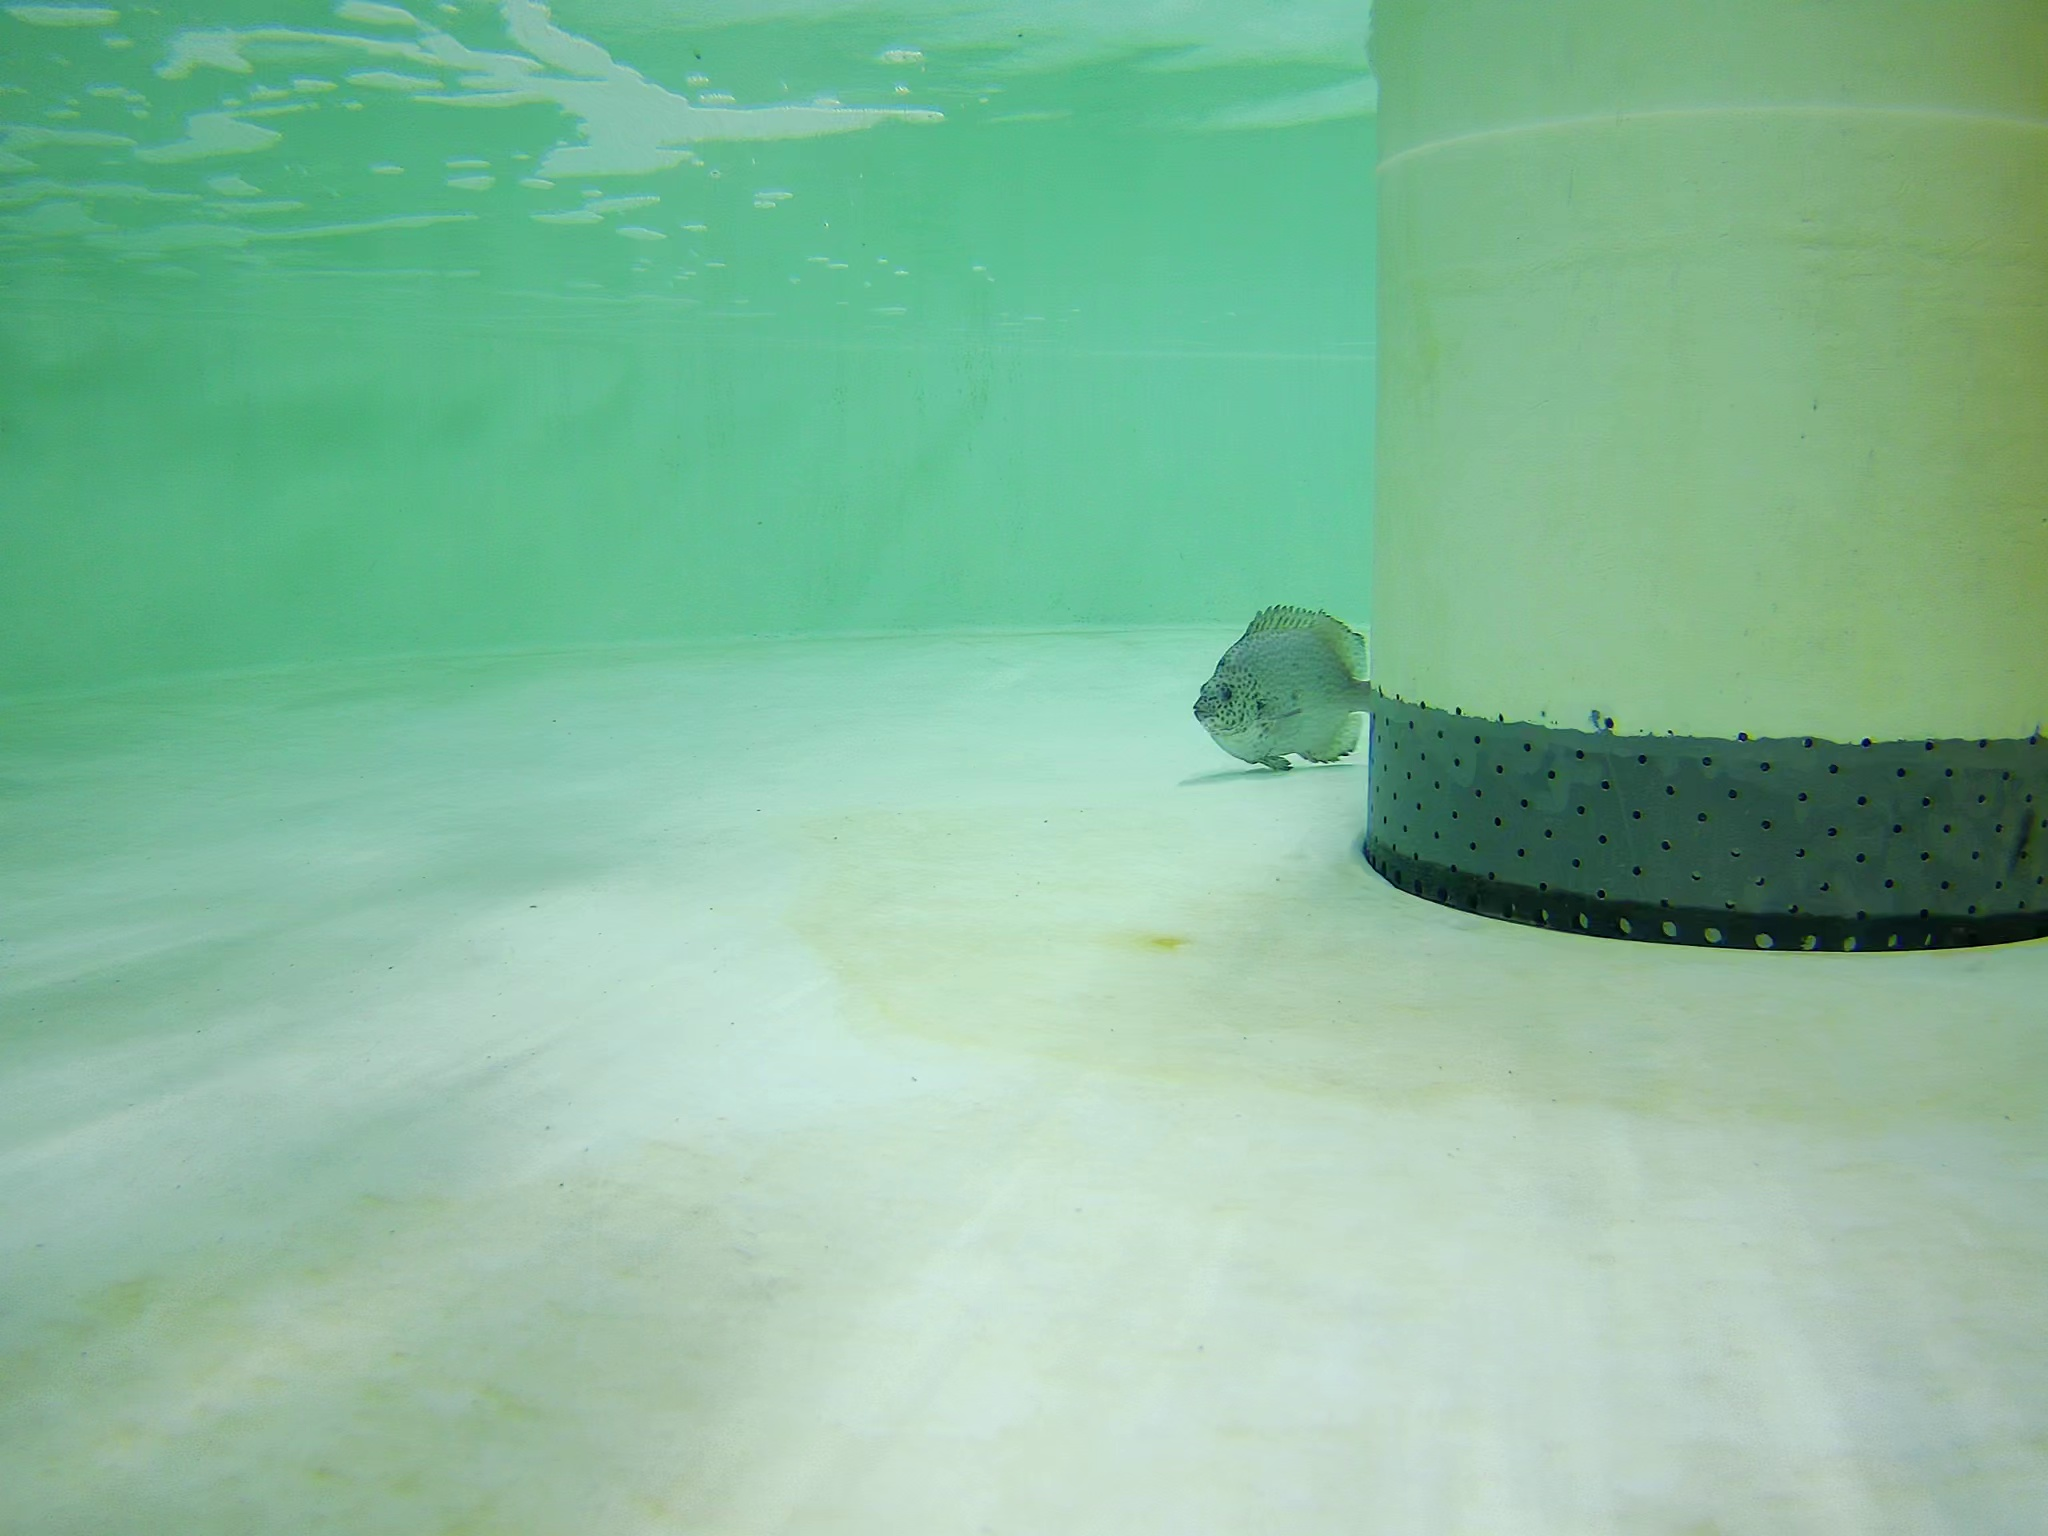fish: (1188, 597, 1374, 773)
